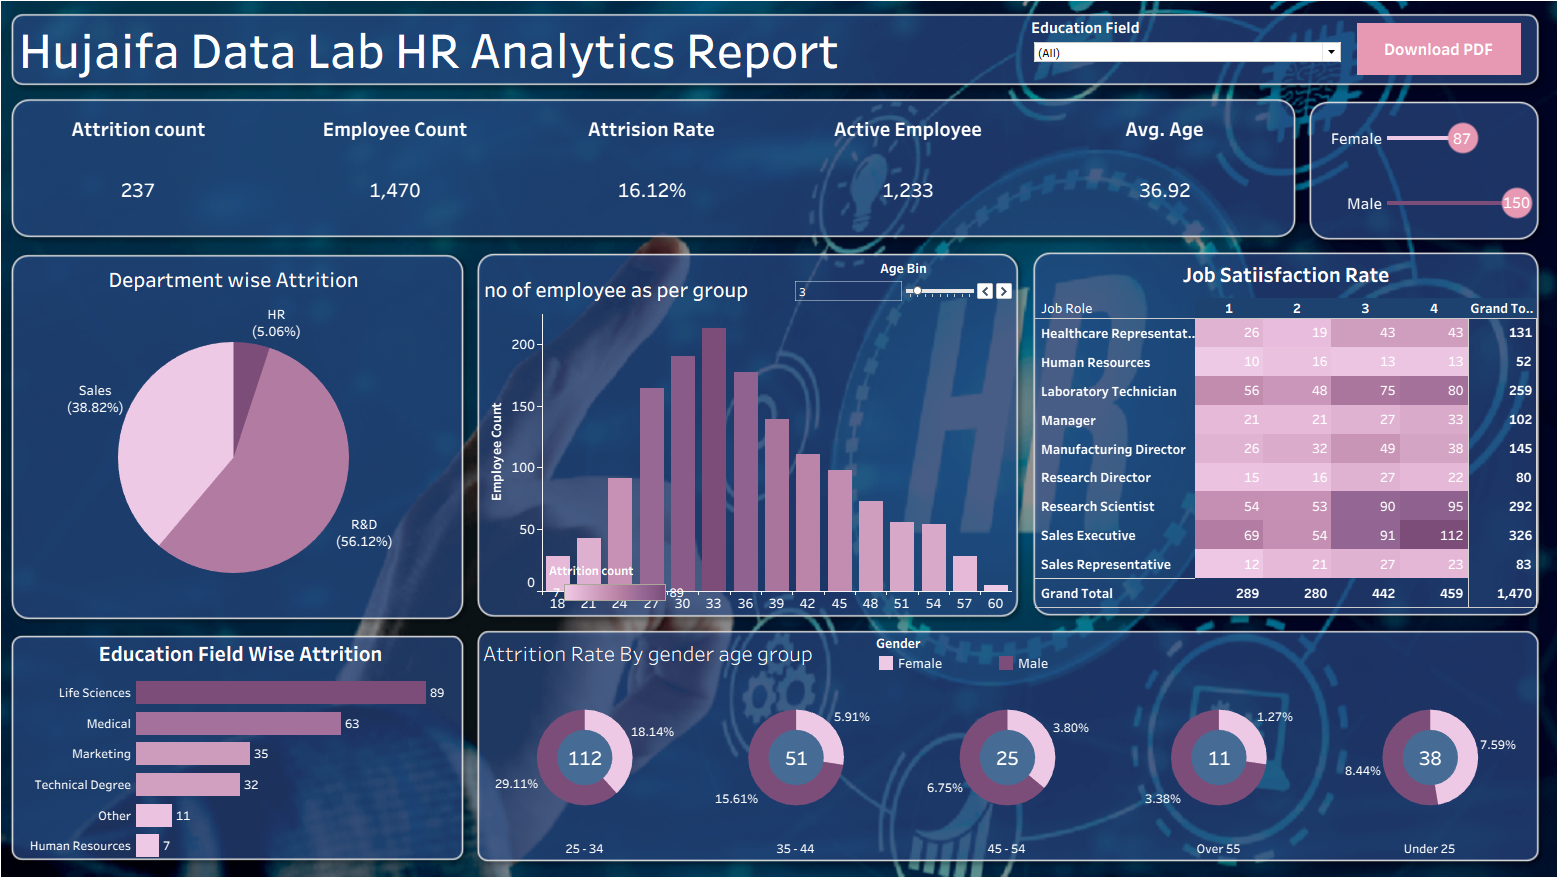

The dashboard page shown, as its layout file describes it:
{"tool":"tableau","page":{"name":"Hr Report","canvas":[1600,900],"ordinal":0},"visuals":[{"type":"image","param":"Image/HR background.pptx.png","box":[8,8,1584,884]},{"type":"text","box":[27,28,921,65]},{"type":"filter","title":"Education Field Wise Attrition","param":"[federated.1e9pnxw0tilmdd15y5zp11s41q32].[none:Education Field:nk]","box":[1042,28,313,63]},{"type":"dashboard-object","box":[1368,34,164,52]},{"type":"worksheet","title":"Kpi","mark":"Automatic","box":[21,112,1283,138]},{"type":"worksheet","title":"Gender Wise Attrision","mark":"Automatic","rows":["Gender"],"cols":["Calculation_0945901098483712","Calculation_0945901098483712"],"box":[1318,117,232,129]},{"type":"worksheet","title":"Job Satiisfaction Rate","mark":"Square","rows":["Job Role"],"cols":["Job Satisfaction"],"box":[1046,267,502,352]},{"type":"parameter","param":"[Parameters].[Parameter 1]","box":[803,270,223,51]},{"type":"worksheet","title":"Department wise Attrition","mark":"Pie","box":[20,272,449,350]},{"type":"worksheet","title":"no of employee as per group","mark":"Automatic","rows":["Employee Count"],"cols":["Age (bin)"],"box":[491,282,532,342]},{"type":"legend","title":"Education Field Wise Attrition","param":"[federated.1e9pnxw0tilmdd15y5zp11s41q32].[sum:Calculation_0945901098483712:qk]","box":[560,573,140,76]},{"type":"legend","title":"Attrition Rate By gender age group","param":"[federated.1e9pnxw0tilmdd15y5zp11s41q32].[none:Gender:nk]","box":[887,645,265,52]},{"type":"worksheet","title":"Education Field Wise Attrition","mark":"Automatic","rows":["Education Field"],"cols":["Calculation_0945901098483712"],"box":[27,646,449,226]},{"type":"worksheet","title":"Attrition Rate By gender age group","mark":"Pie","rows":["Calculation_1038535174397953","Calculation_1038535174397953"],"cols":["CF_age band"],"box":[490,646,1057,223]}]}

Visuals, with their boxes in screenshot pixels (x1, y1, x2, y2), scaled from the page's 1600x900 canvas onto the 1557x877 screenshot:
image: rect(8, 8, 1549, 869)
text: rect(26, 27, 923, 91)
"Education Field Wise Attrition" filter: rect(1014, 27, 1319, 89)
dashboard-object: rect(1331, 33, 1491, 84)
"Kpi" worksheet: rect(20, 109, 1269, 244)
"Gender Wise Attrision" worksheet: rect(1283, 114, 1508, 240)
"Job Satiisfaction Rate" worksheet (Square marks): rect(1018, 260, 1506, 603)
parameter: rect(781, 263, 998, 313)
"Department wise Attrition" worksheet (Pie marks): rect(19, 265, 456, 606)
"no of employee as per group" worksheet: rect(478, 275, 996, 608)
"Education Field Wise Attrition" legend: rect(545, 558, 681, 632)
"Attrition Rate By gender age group" legend: rect(863, 629, 1121, 679)
"Education Field Wise Attrition" worksheet: rect(26, 629, 463, 850)
"Attrition Rate By gender age group" worksheet (Pie marks): rect(477, 629, 1505, 847)
